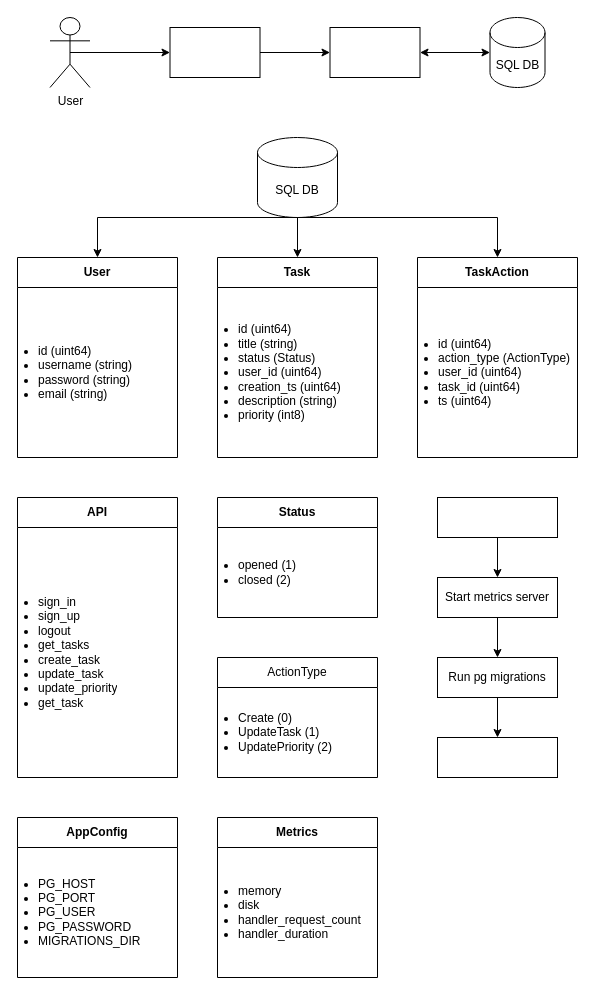
Image size: 595x995. Some labels were removed from this diagram. The shapes that lost their labels are listed below. From the top down, each one's centre as x and y in pixels, then its label:
pixel 214 52: Frontend
pixel 374 52: TODO List backend
pixel 497 517: Read config
pixel 497 757: Start server
